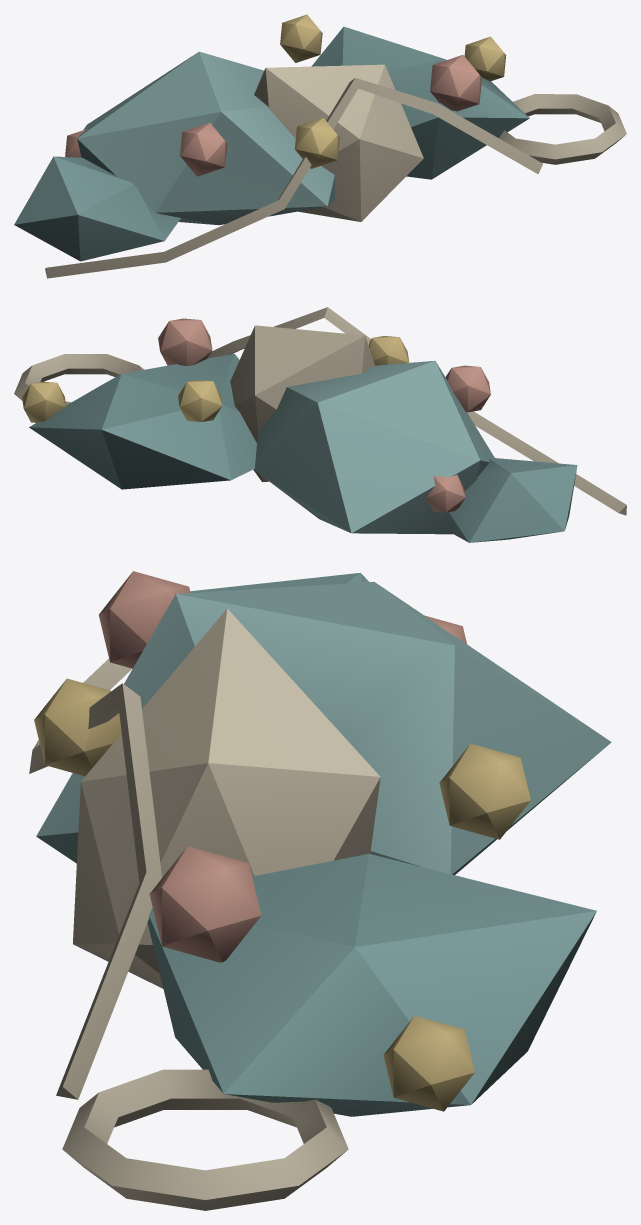
Rendered from nets.lod1.glb.
3 views of the same model, one above another, from view 1: azimuth 30°, elevation 25°; view 2: azimuth 150°, elevation 25°; view 3: azimuth 270°, elevation 25° (orthographic). The views are drawn at different scales.
Size of the model in its own units: 2.43 by 0.5525 by 1.04.
